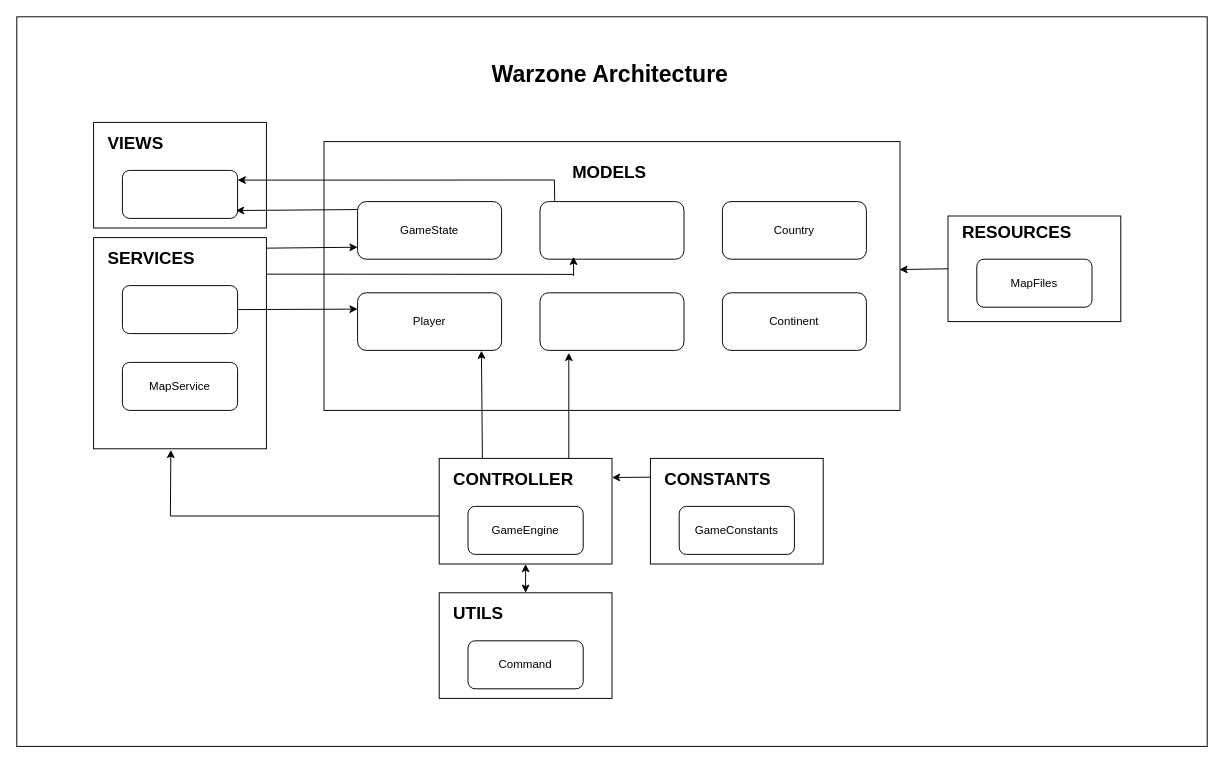
Image size: 1224x763. Some labels were removed from this diagram. The centre of each missing label's shape, as x and y in pixels:
Map: (611,230)
MapView: (179,193)
Order: (611,321)
PlayerService: (179,309)
